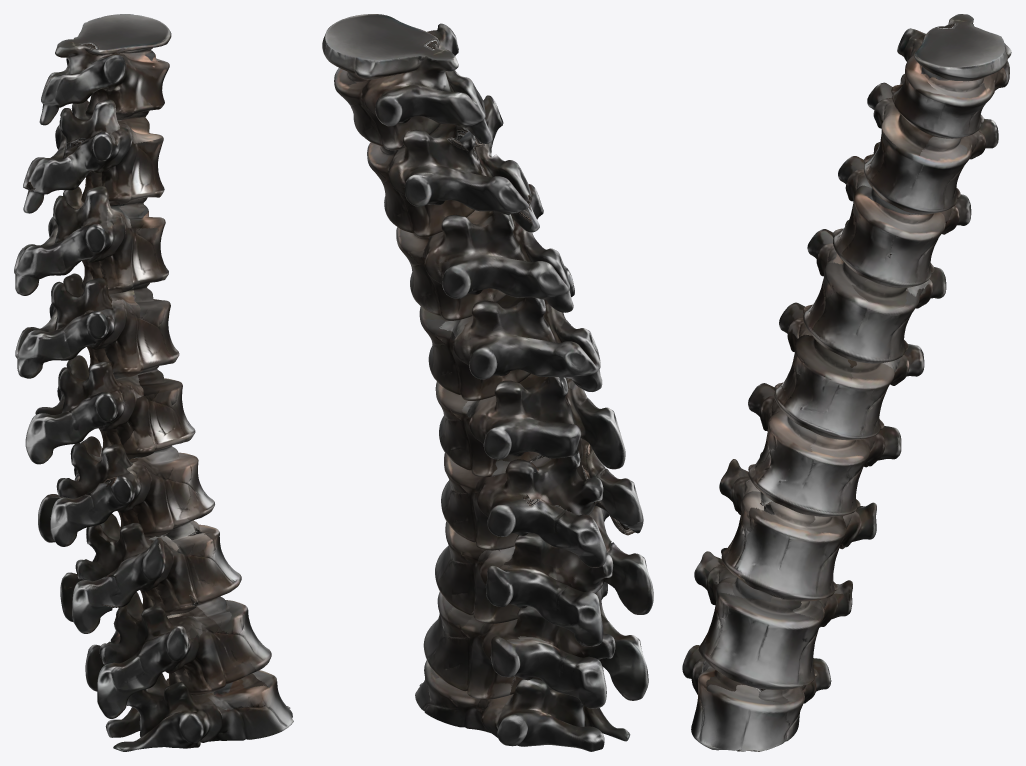
Rendered from spine-desktop.glb.
3 views of the same model, side by side, from view 1: azimuth 30°, elevation 25°; view 2: azimuth 150°, elevation 25°; view 3: azimuth 270°, elevation 25° (orthographic). The views are drawn at different scales.
Visible parts, largest first — view 1: tripo_node_b2a1ff4f-8972-4df4-b4bd-6063b4841254; view 2: tripo_node_b2a1ff4f-8972-4df4-b4bd-6063b4841254; view 3: tripo_node_b2a1ff4f-8972-4df4-b4bd-6063b4841254.
Part boxes in pixels (x1,y1,x2,y2): tripo_node_b2a1ff4f-8972-4df4-b4bd-6063b4841254: [14, 14, 293, 751]; tripo_node_b2a1ff4f-8972-4df4-b4bd-6063b4841254: [322, 14, 653, 751]; tripo_node_b2a1ff4f-8972-4df4-b4bd-6063b4841254: [682, 14, 1011, 751].
Size of the model in its own units: 0.3555 by 0.9823 by 0.4338.
1 material, 1 textured.
